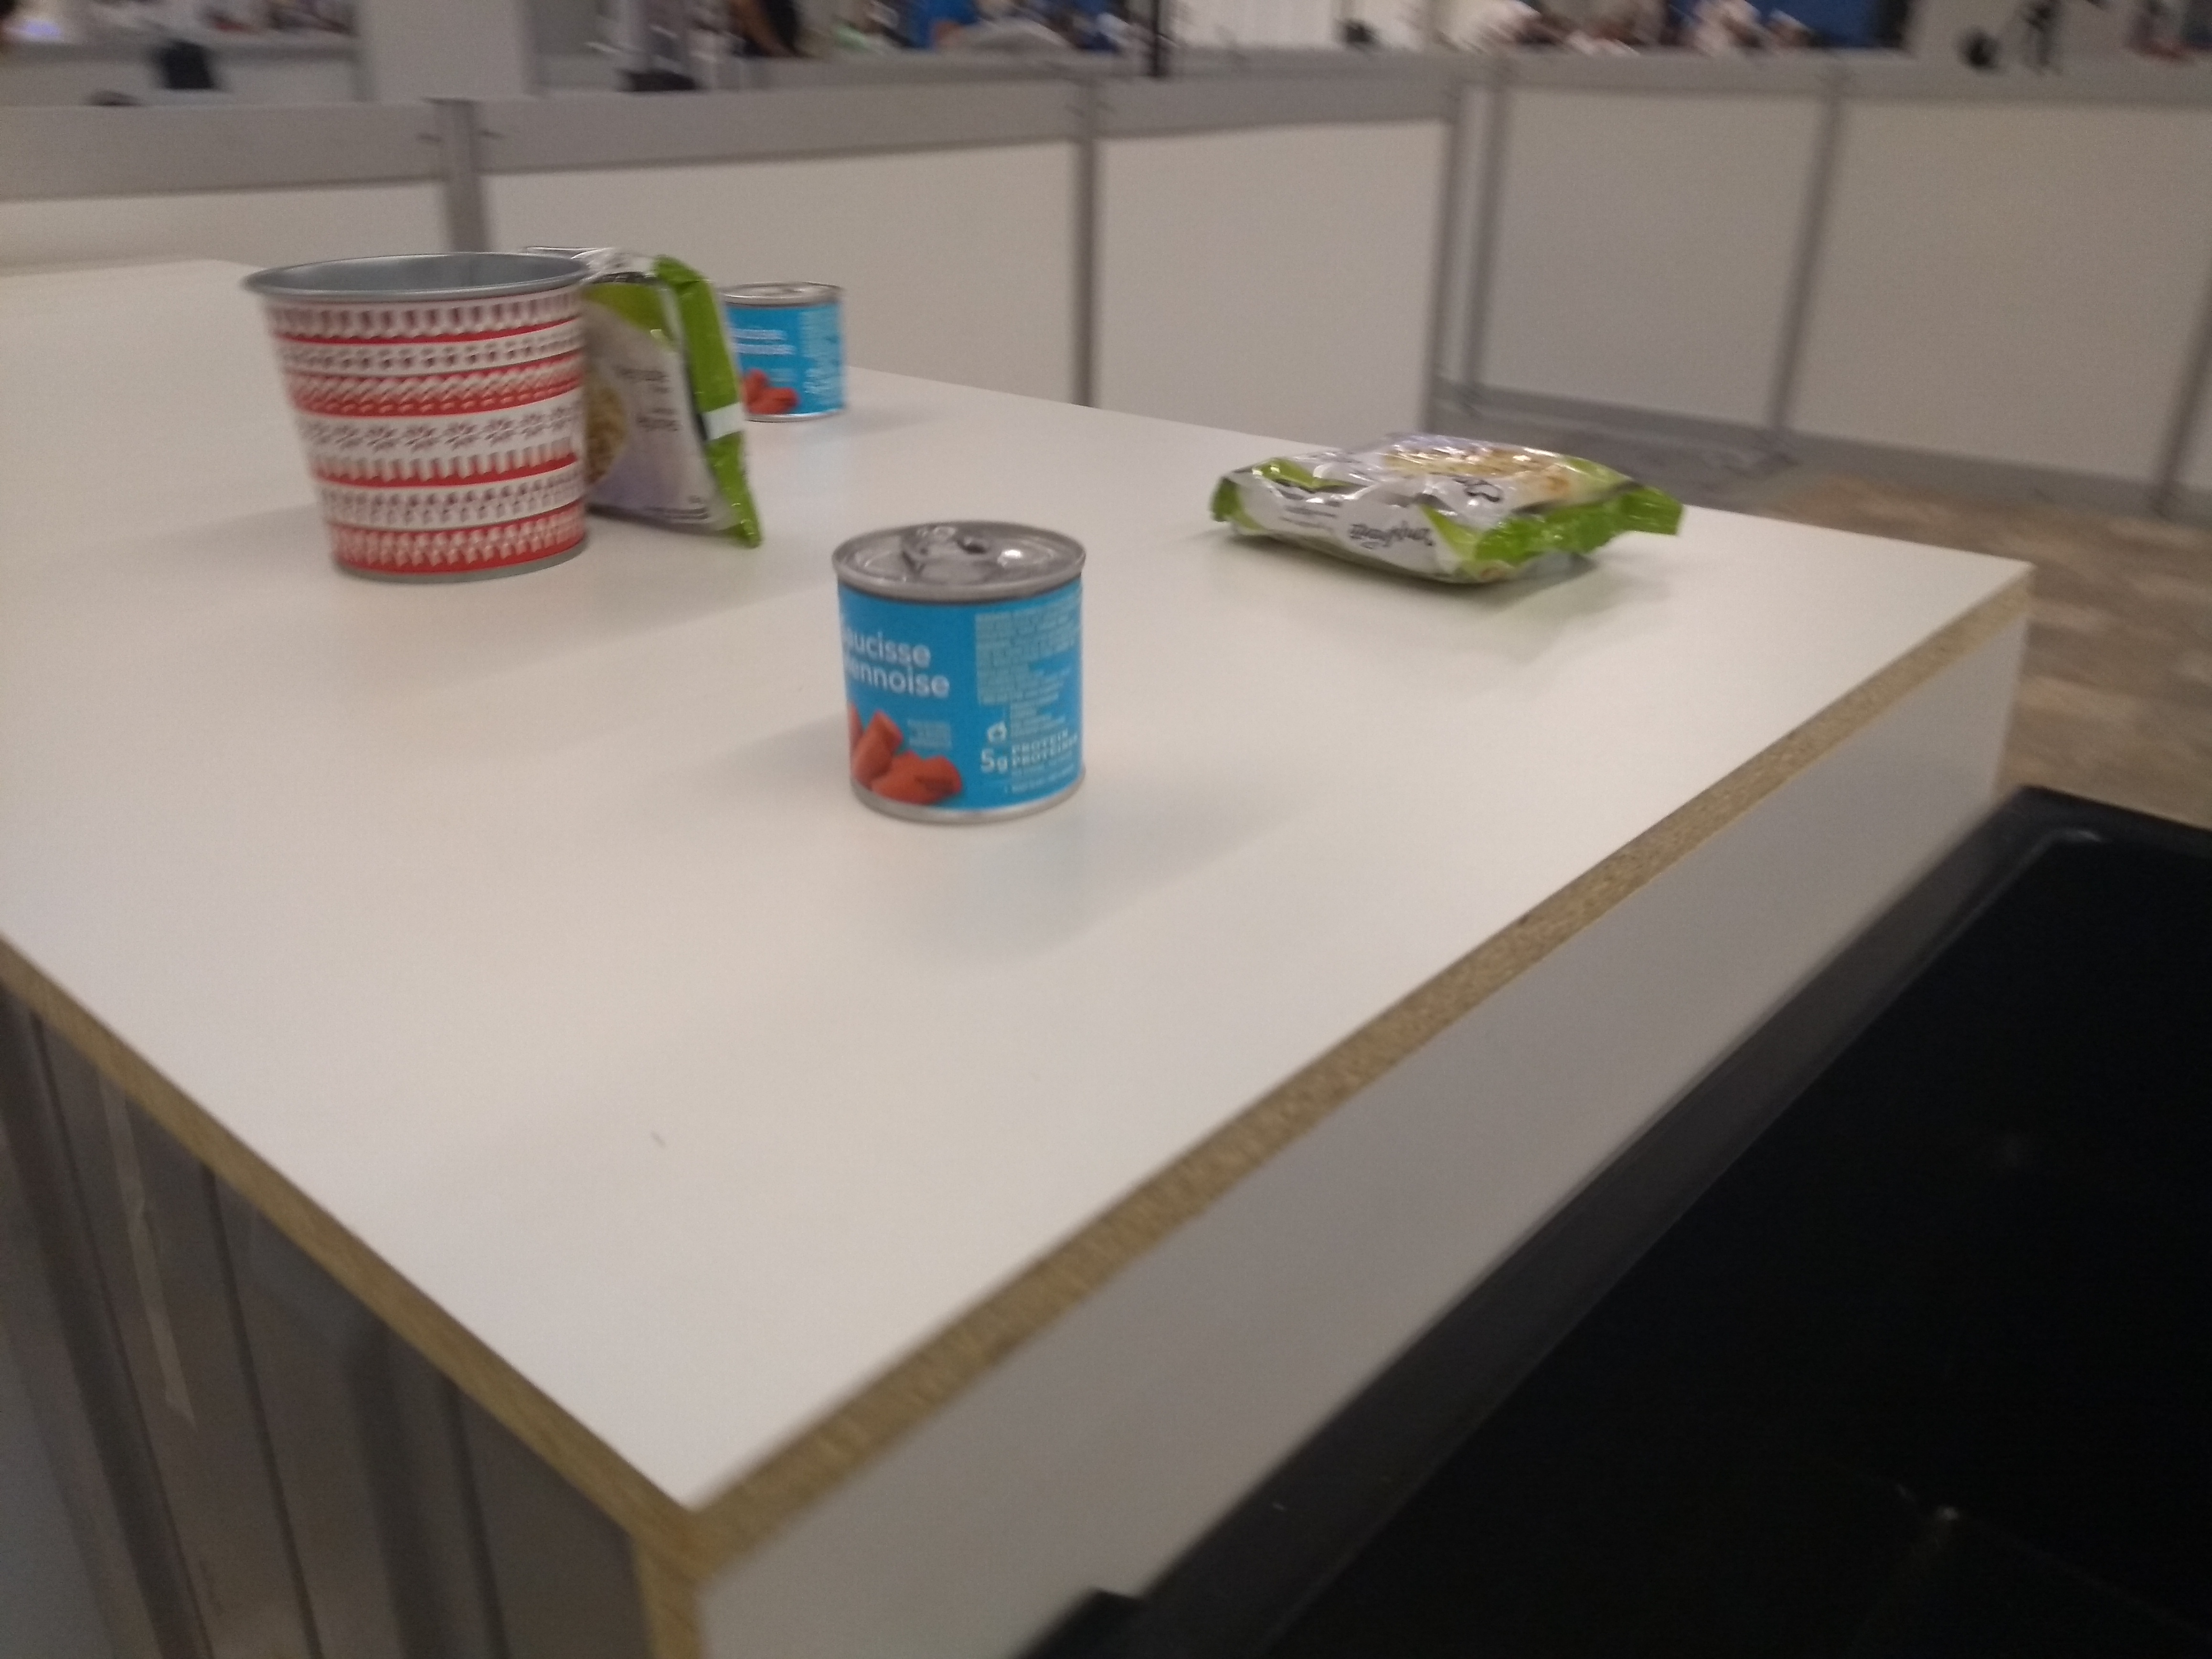noodles: (1197, 410, 1710, 608)
sausages: (822, 514, 1103, 833)
